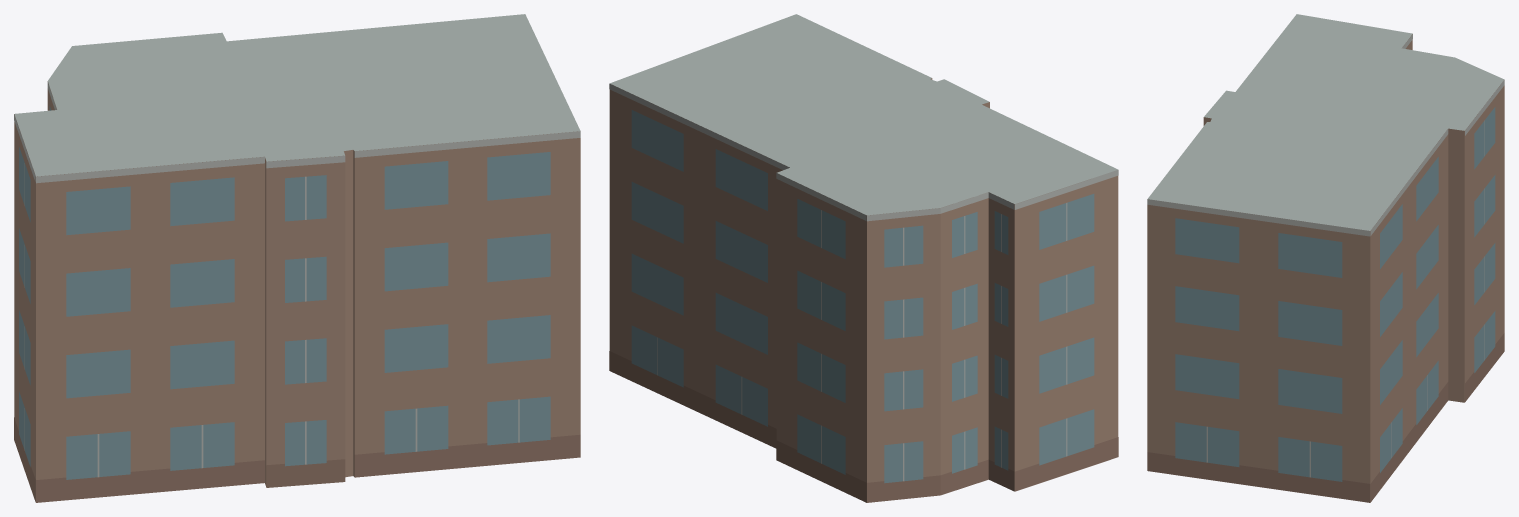
Rendered from survey-upis-32803408.glb.
3 renders of one model, left to right at view 1: azimuth 30°, elevation 25°; view 2: azimuth 150°, elevation 25°; view 3: azimuth 270°, elevation 25°, orthographic. The views are drawn at different scales.
Visible parts, largest first — view 1: survey-upis-32803408.tmp; view 2: survey-upis-32803408.tmp; view 3: survey-upis-32803408.tmp.
Part boxes in pixels (x1,y1,x2,y2): survey-upis-32803408.tmp: (14, 14, 580, 502); survey-upis-32803408.tmp: (609, 14, 1118, 502); survey-upis-32803408.tmp: (1147, 14, 1504, 502).
Size of the model in its own units: 20.3 by 11.86 by 14.13.
